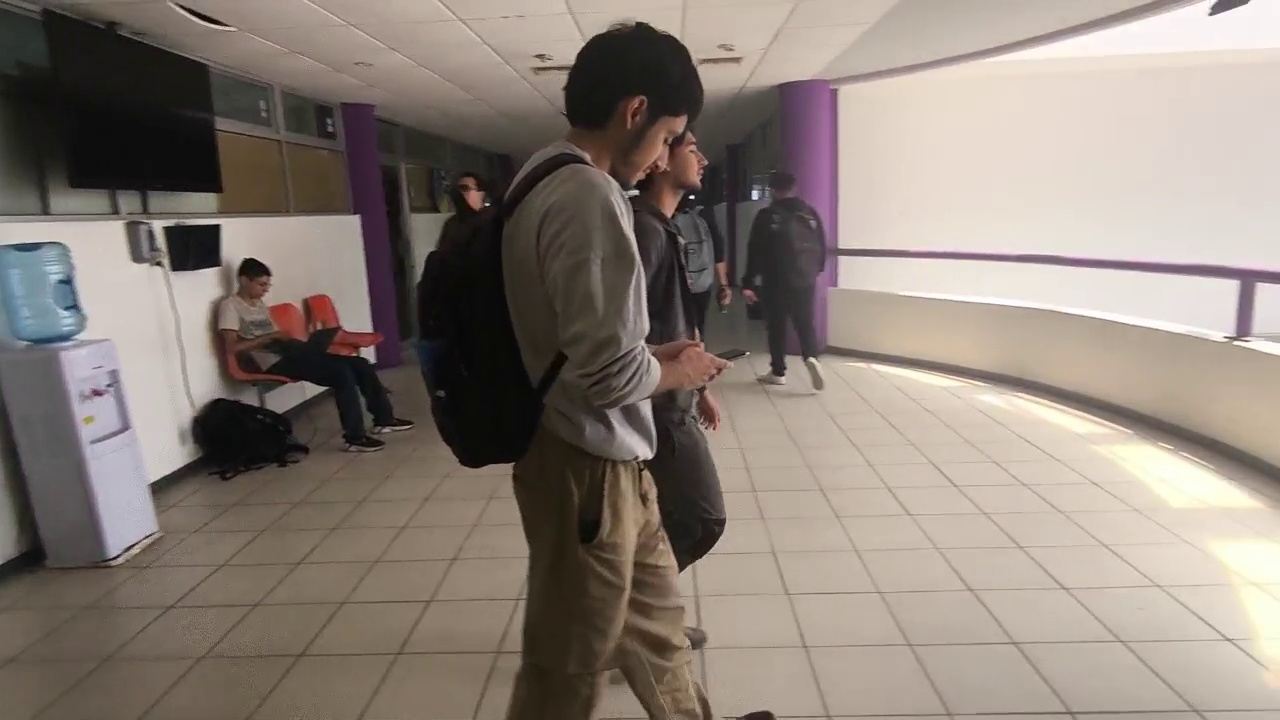mixto2: (707, 340, 752, 368)
